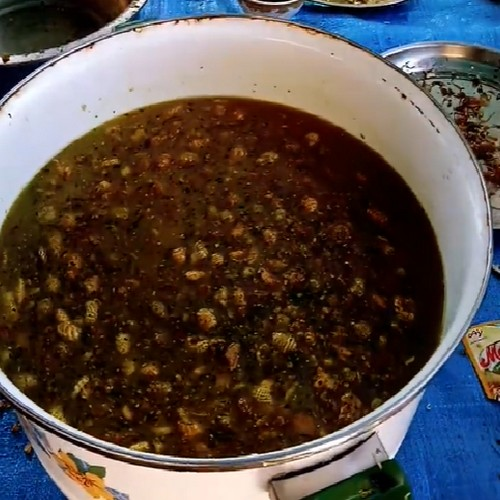komoh: (24, 107, 393, 409)
